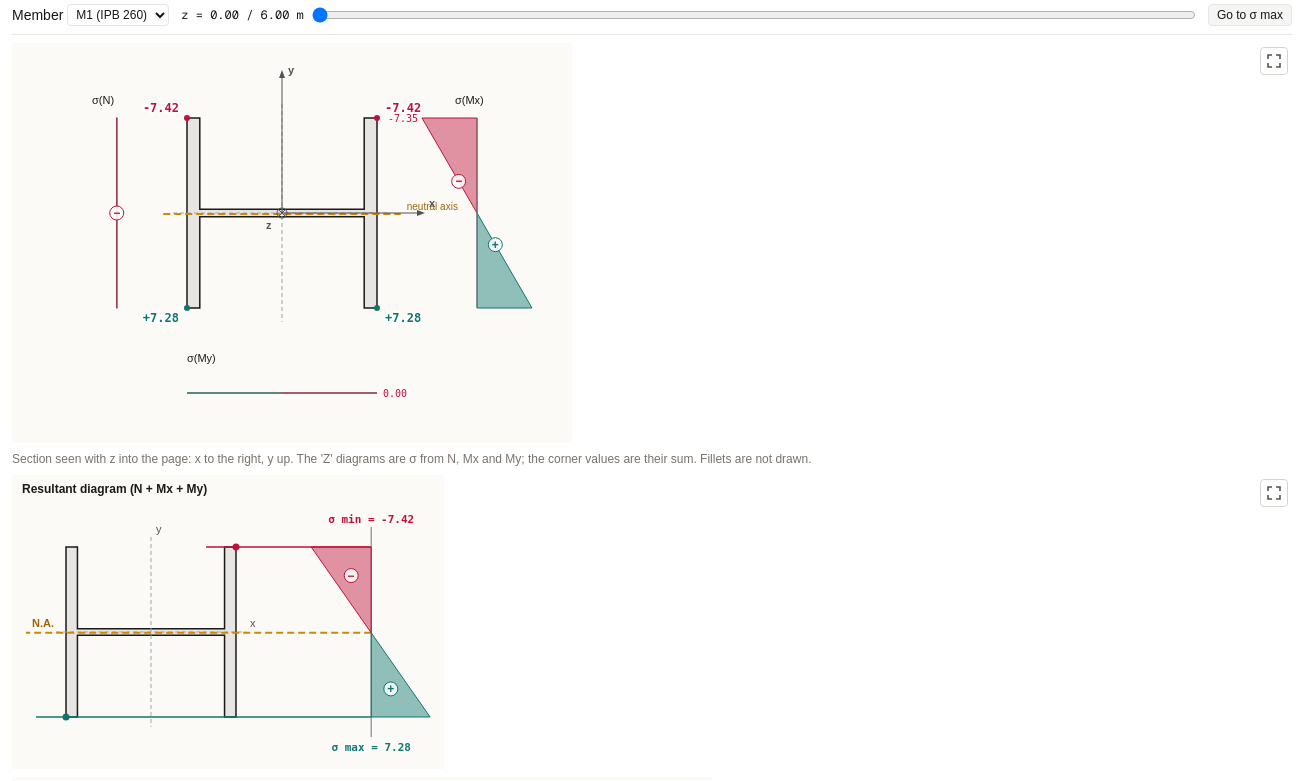
it: SectionCut › 'go to σ max' jumps to the most stressed section
The width and height of the screenshot is (1304, 781).
Click the button "Go to σ max" at [1250, 15], box [1208,4,1292,26]
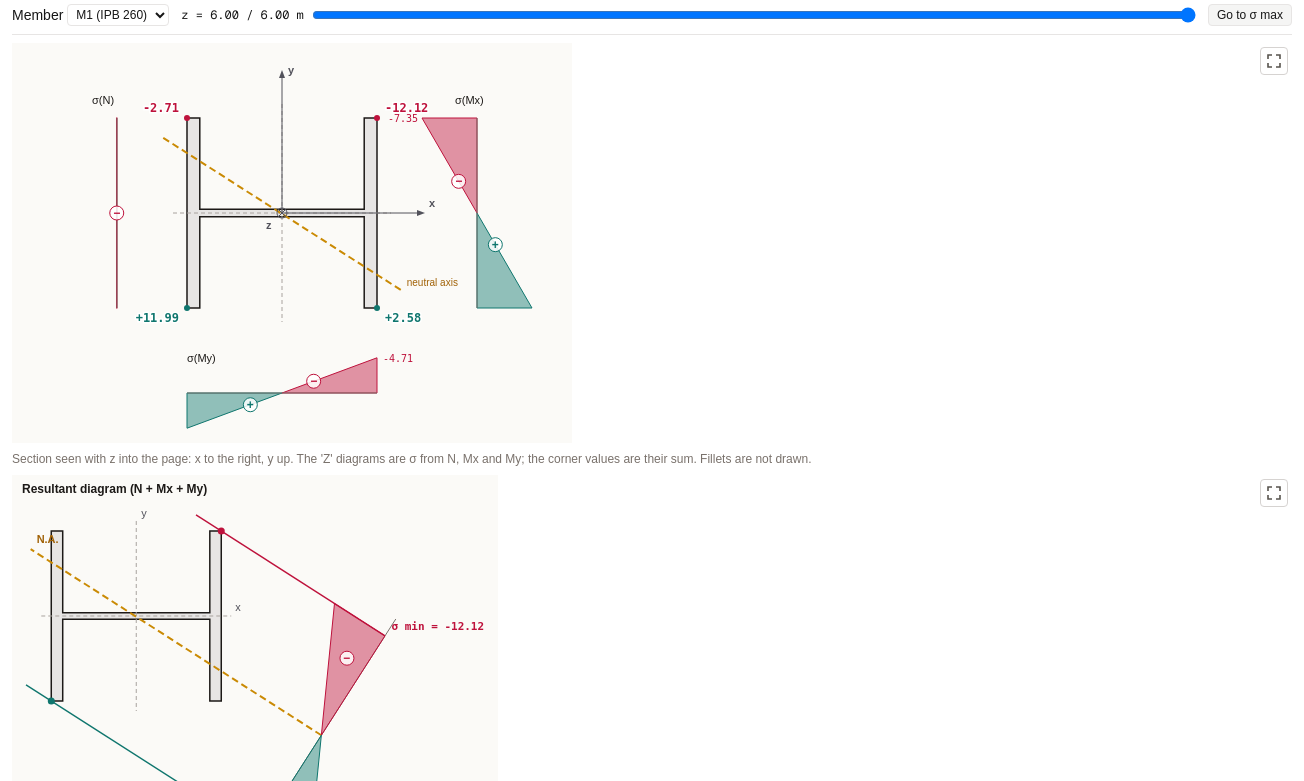
Result: the text with test id "cut-x" shows "z = 6.00" at [181,7,304,23]
